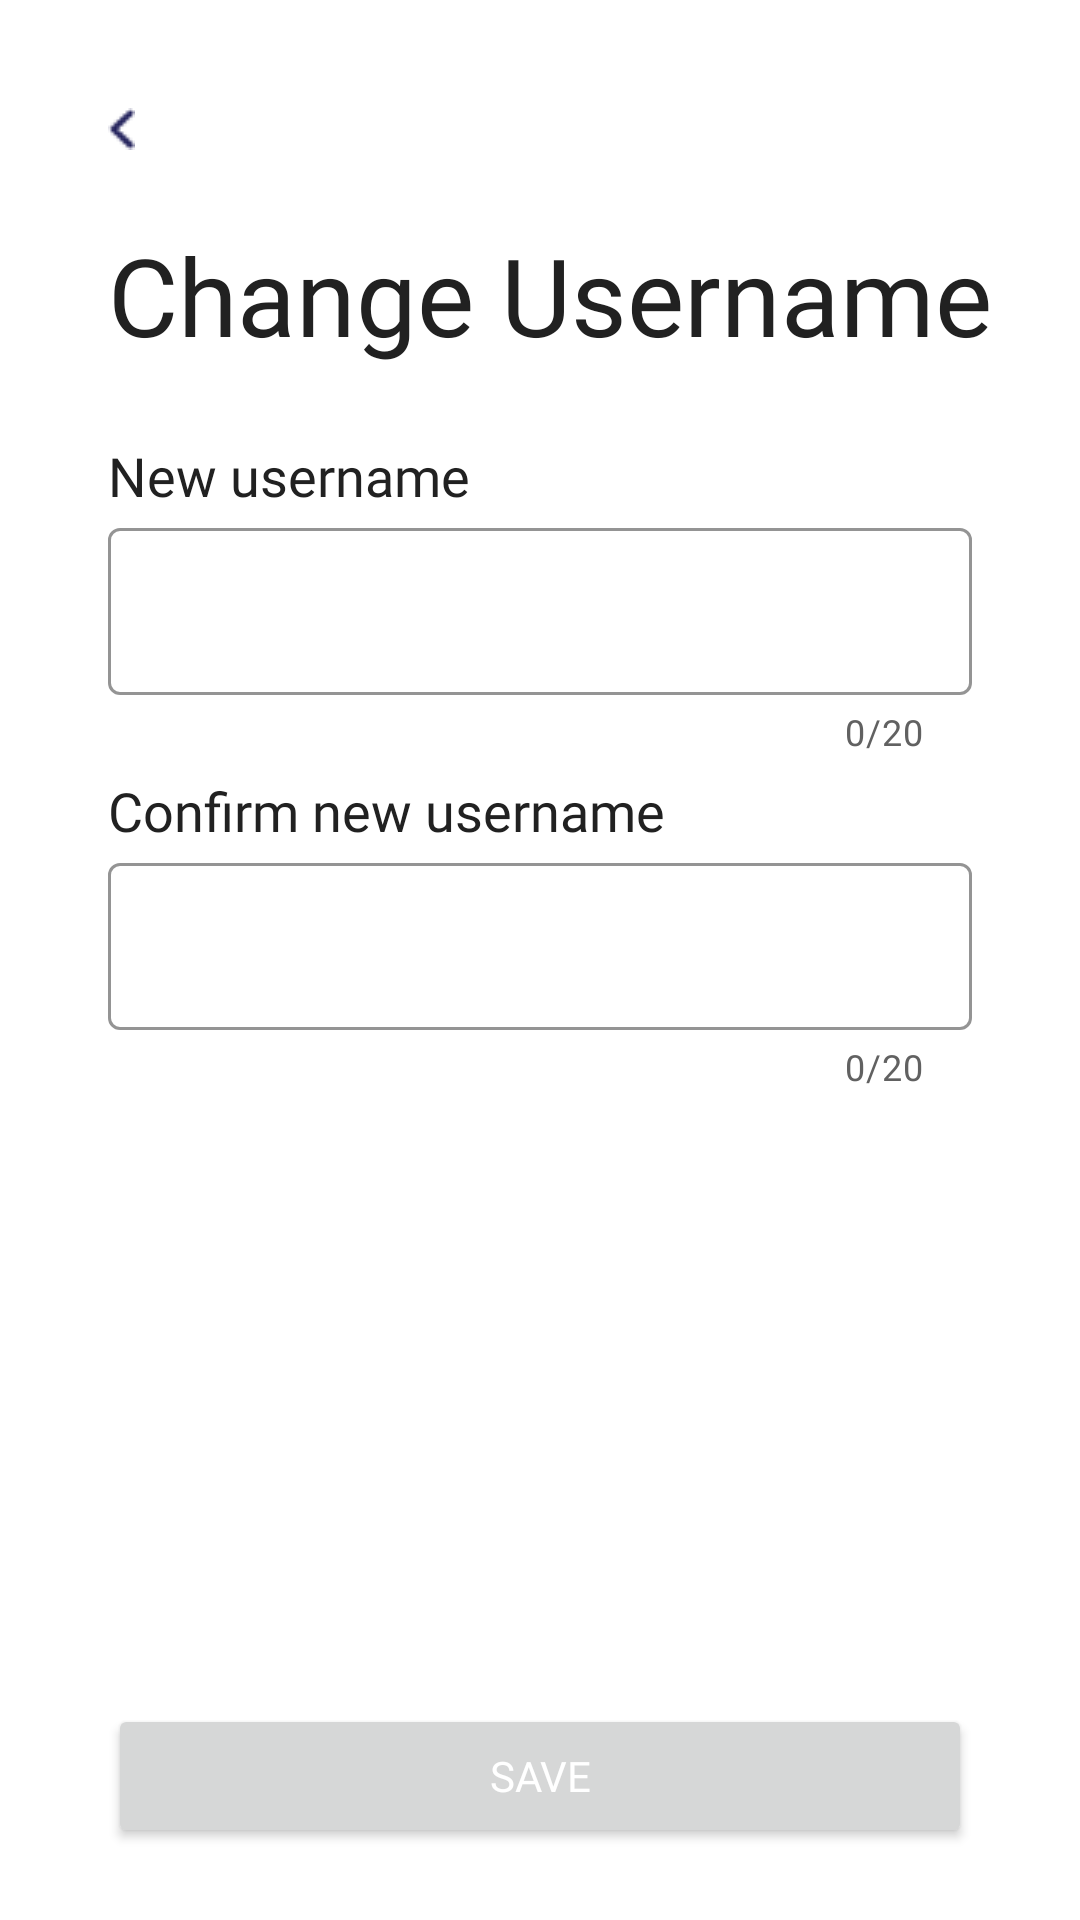

Point at icon controls on the screen. Image size 1080px×1920px, points as (x=x, y=y).
back arrow: (x=121, y=129)
